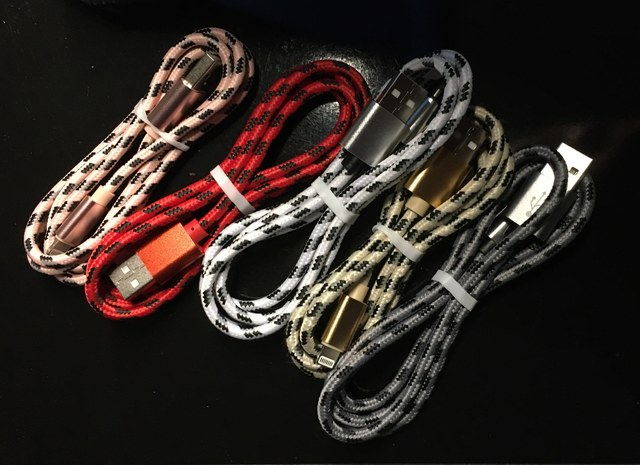Energizer AA Batteries: (32, 23, 608, 442)
